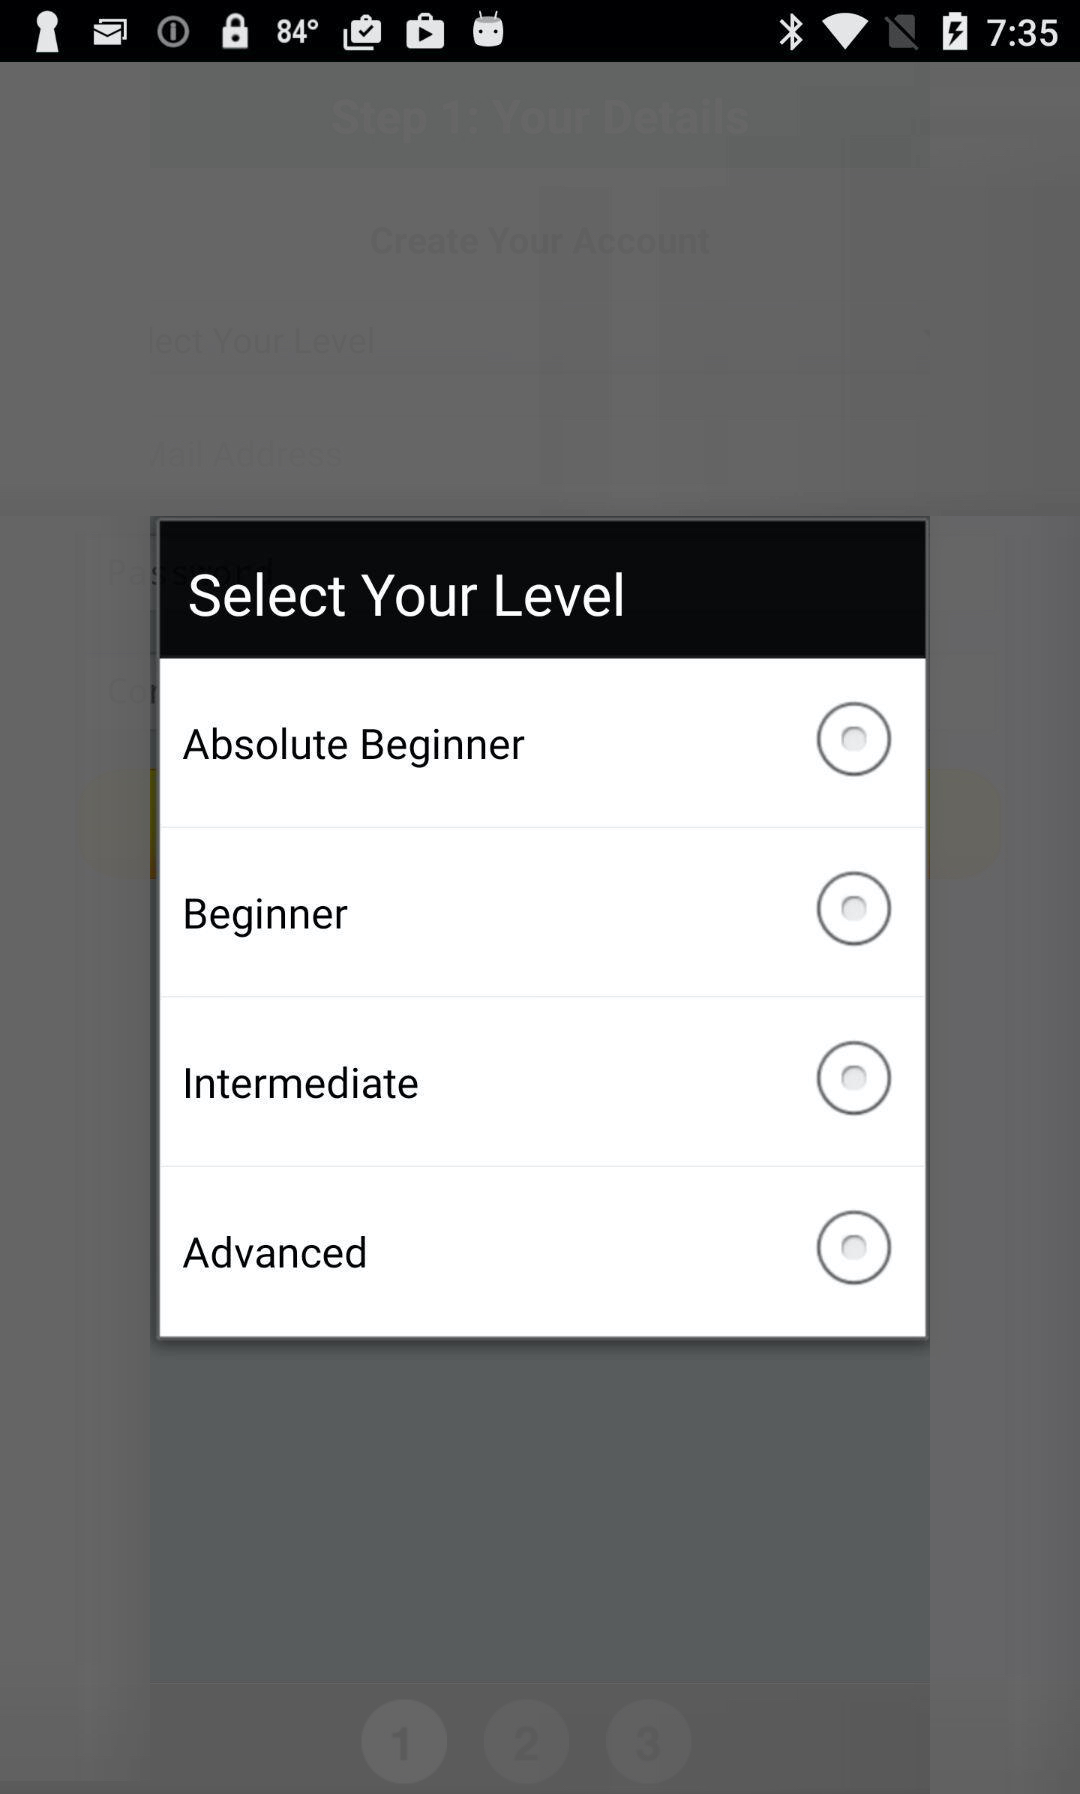CheckedTextView: (184, 1208, 892, 1287), (184, 701, 893, 778), (184, 871, 893, 948), (186, 1041, 893, 1117)
Modal: (156, 519, 928, 1340)
Text: (190, 573, 624, 618), (184, 728, 527, 769), (186, 1066, 419, 1099), (184, 896, 348, 938), (184, 1237, 366, 1270)
UpperTaskBar: (1, 1, 1080, 64)
